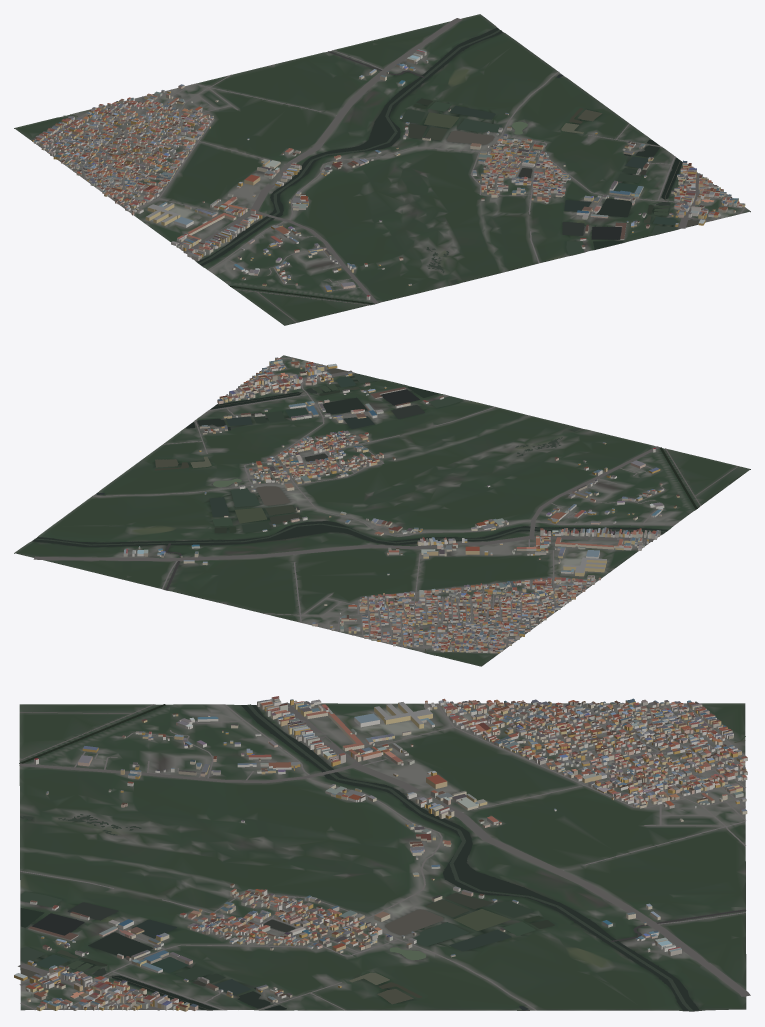
3 views of the same model, one above another, from view 1: azimuth 30°, elevation 25°; view 2: azimuth 150°, elevation 25°; view 3: azimuth 270°, elevation 25° (orthographic). The views are drawn at different scales.
Visible parts, largest first — view 1: ground, buildings, water, roads; view 2: ground, buildings, water, roads; view 3: ground, buildings, water, roads.
Boxes of the visible parts, <box> form: ground: <box>14,14,750,325</box>; buildings: <box>32,49,745,299</box>; water: <box>63,27,698,304</box>; roads: <box>37,18,745,322</box>; ground: <box>14,355,750,666</box>; buildings: <box>123,357,679,653</box>; water: <box>32,368,697,654</box>; roads: <box>33,357,738,649</box>; ground: <box>19,703,746,1011</box>; buildings: <box>14,696,747,1011</box>; water: <box>19,704,745,1011</box>; roads: <box>18,702,750,1010</box>.
Size of the model in its own units: 1414 by 26.04 by 1424.
